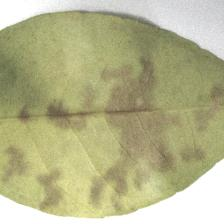canker: (38, 64, 204, 195)
